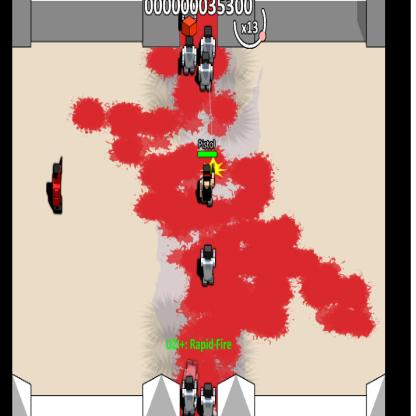agent: (198, 164, 215, 209)
boss: (50, 160, 64, 218)
jombie: (200, 242, 215, 288), (198, 52, 214, 92), (181, 374, 197, 414), (182, 36, 197, 76), (200, 26, 216, 59), (200, 383, 215, 415)
